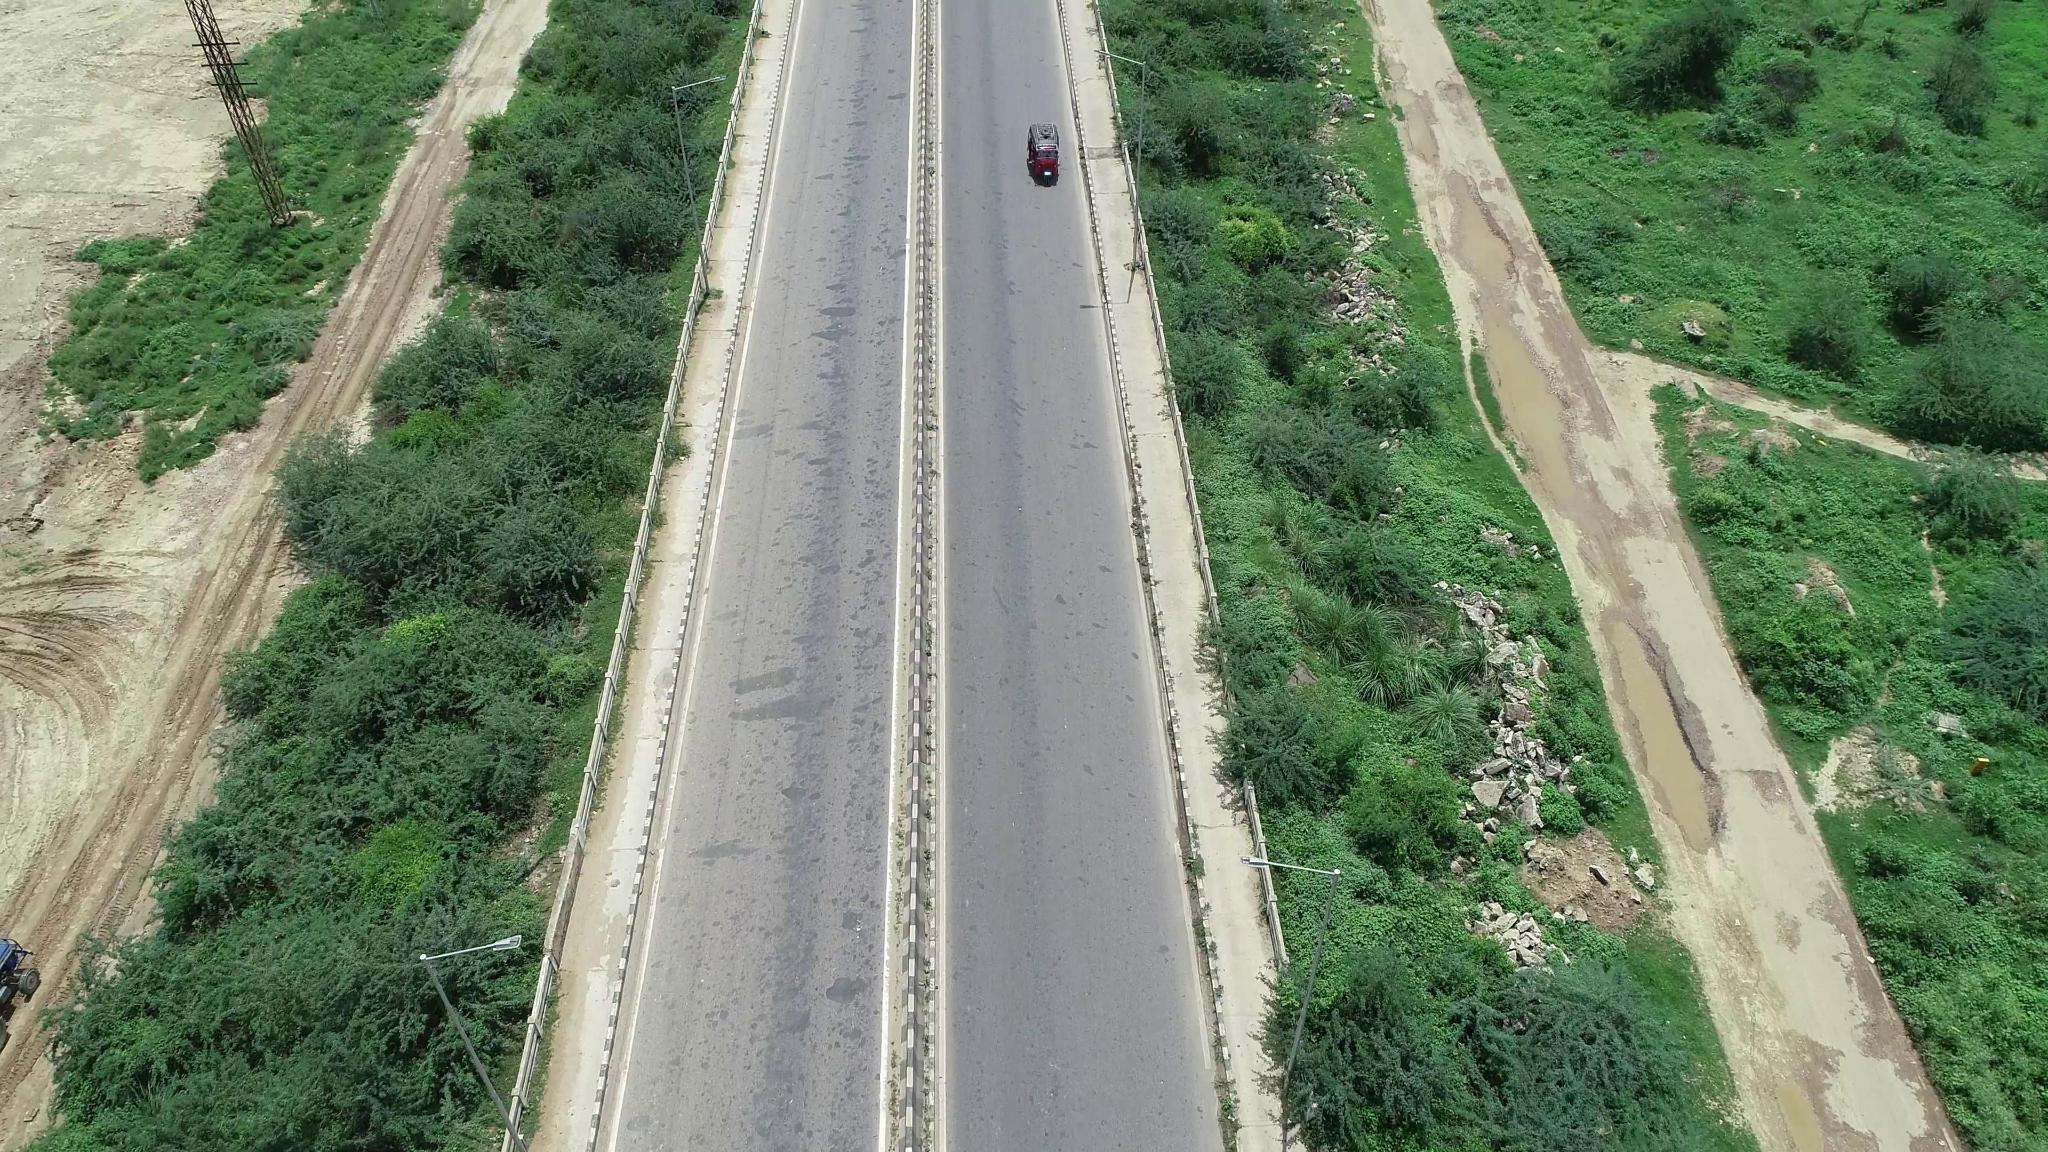Potholes: (1611, 610, 1726, 852)
